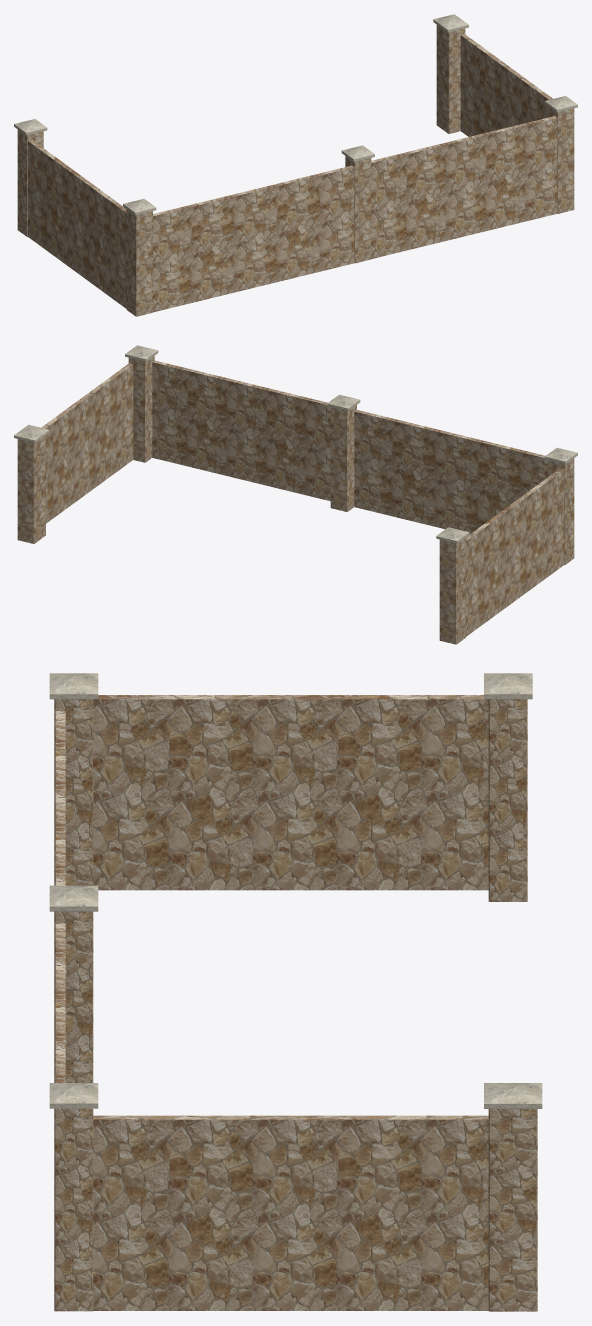
Rendered from Walls exterior.FBX.
3 renders of one model, top to bottom at view 1: azimuth 30°, elevation 25°; view 2: azimuth 150°, elevation 25°; view 3: azimuth 270°, elevation 25°, orthographic. The views are drawn at different scales.
Parts seen in each view (by area): view 1: Walls exterior; view 2: Walls exterior; view 3: Walls exterior.
Boxes of the visible parts, left/top/right/bottom form: Walls exterior: left=14, top=14, right=577, bottom=316; Walls exterior: left=14, top=345, right=577, bottom=644; Walls exterior: left=49, top=673, right=542, bottom=1311.
Bounding box in the file's own units: 785 × 185 × 380.
3 materials, 3 textured.
